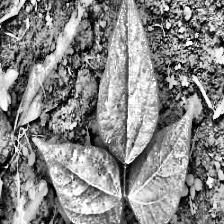ALS: (99, 22, 153, 153), (43, 143, 123, 223), (137, 110, 185, 222)
